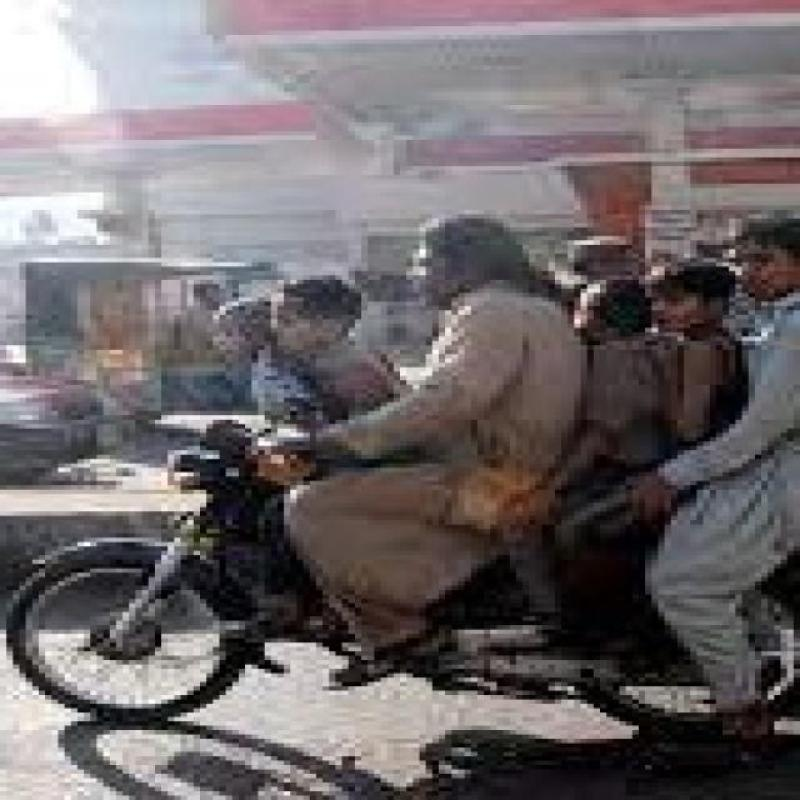nohelmet: (404, 199, 562, 305)
